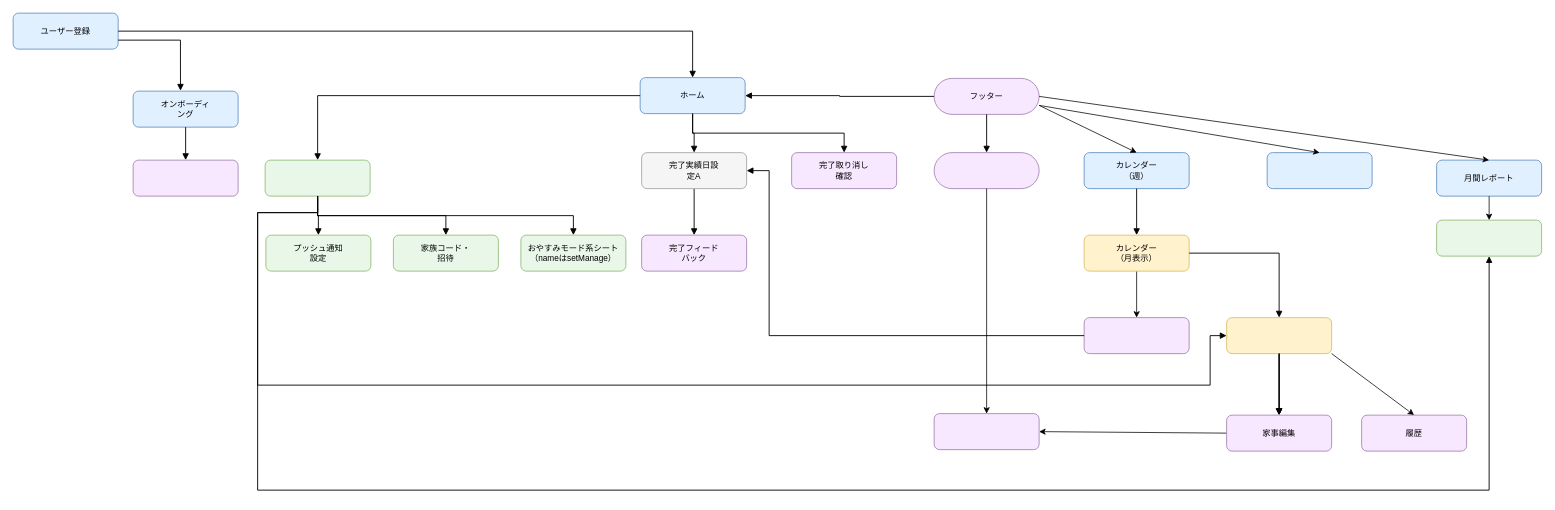
The diagram is 1555 pixels wide and 510 high, and some of its shapes have lost their labels. The centre of each missing label's shape, as x and y in pixels:
きろく: point (1319, 170)
カスタムアイ コン: point (986, 431)
家事まとめて 追加: point (185, 177)
家事を管理 （カレンダー導線側）: point (1279, 335)
家事追加: point (986, 170)
私のレポート: point (1489, 237)
設定BottomSh eet: point (317, 177)
週間タスクの 日にち変更: point (1136, 335)
